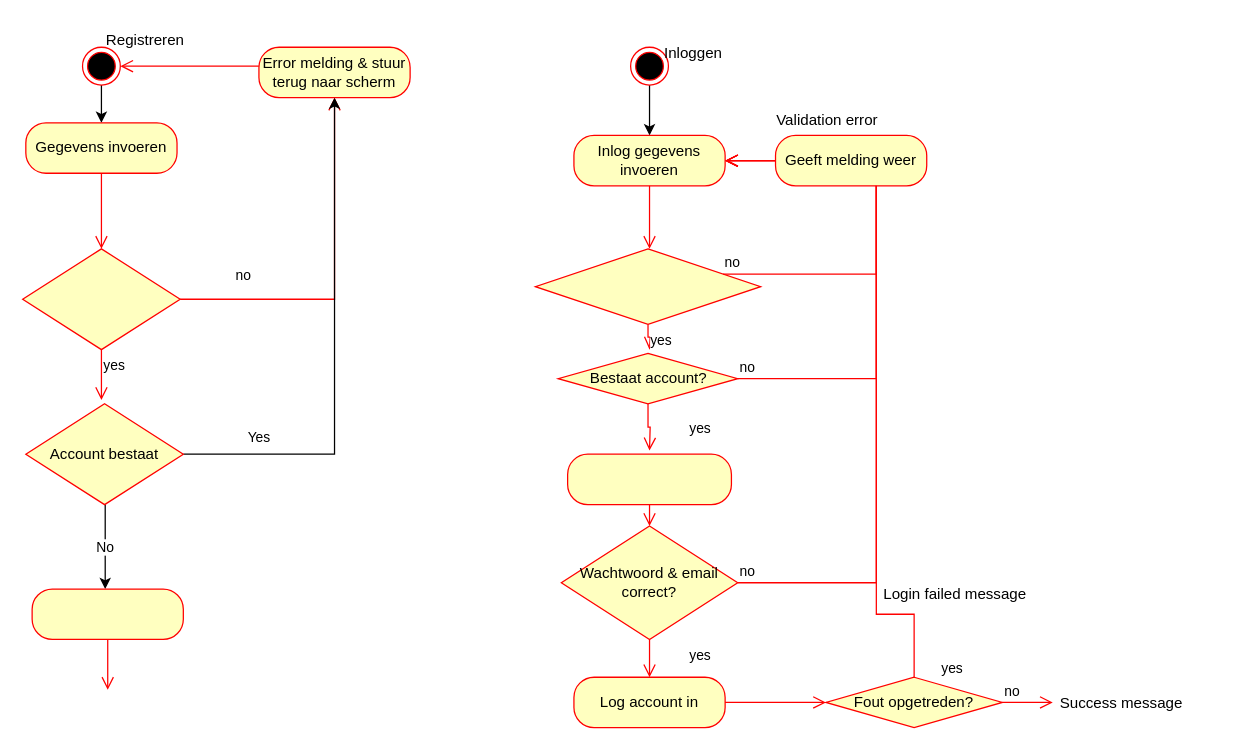
Image size: 1237x750. Some labels were removed from this diagram. Here are the shapes that lost their labels. From the top down, the box of each, then its label:
(21, 248, 180, 350): Email wachtwoord & naam ingevoerd
(534, 248, 761, 324): Heeft email en wachtwoord
(566, 453, 731, 505): Account inloggen met gegevens
(31, 588, 183, 639): Gegevens opslaan in database
